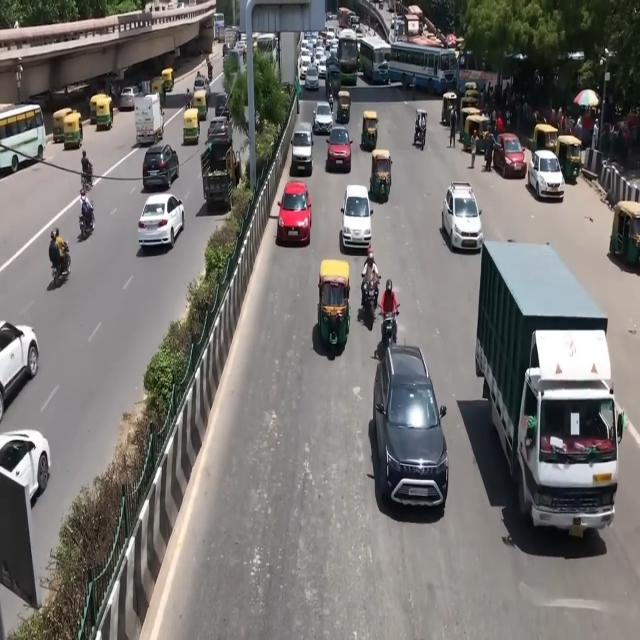auto: (318, 255, 354, 362), (615, 192, 640, 288), (560, 132, 590, 195), (368, 144, 392, 208), (534, 114, 558, 174), (465, 105, 492, 155), (362, 102, 379, 162), (182, 107, 200, 158), (64, 112, 81, 154), (190, 86, 209, 123), (95, 98, 113, 132), (338, 85, 352, 127), (89, 91, 105, 127), (152, 75, 168, 107), (55, 106, 69, 142), (163, 66, 176, 98)
bike-auto: (356, 243, 383, 338), (43, 225, 77, 298), (377, 278, 404, 366), (74, 180, 100, 264), (80, 141, 98, 203), (412, 106, 430, 156)
